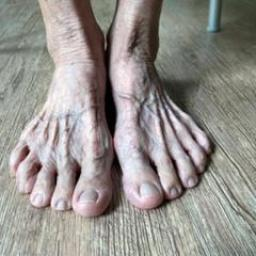Front View -Both Feet-: (1, 6, 223, 232)
